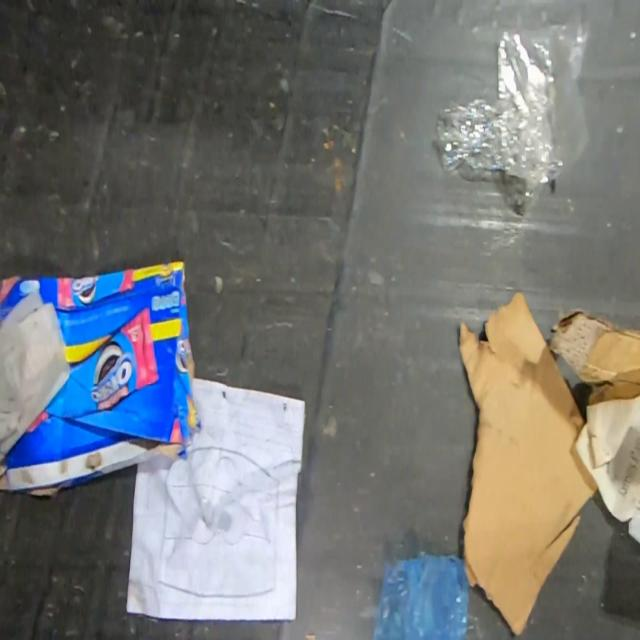cardboard: (458, 289, 599, 636), (0, 260, 201, 497), (547, 306, 640, 405)
soft_plastic: (434, 4, 593, 219), (371, 550, 470, 640)
